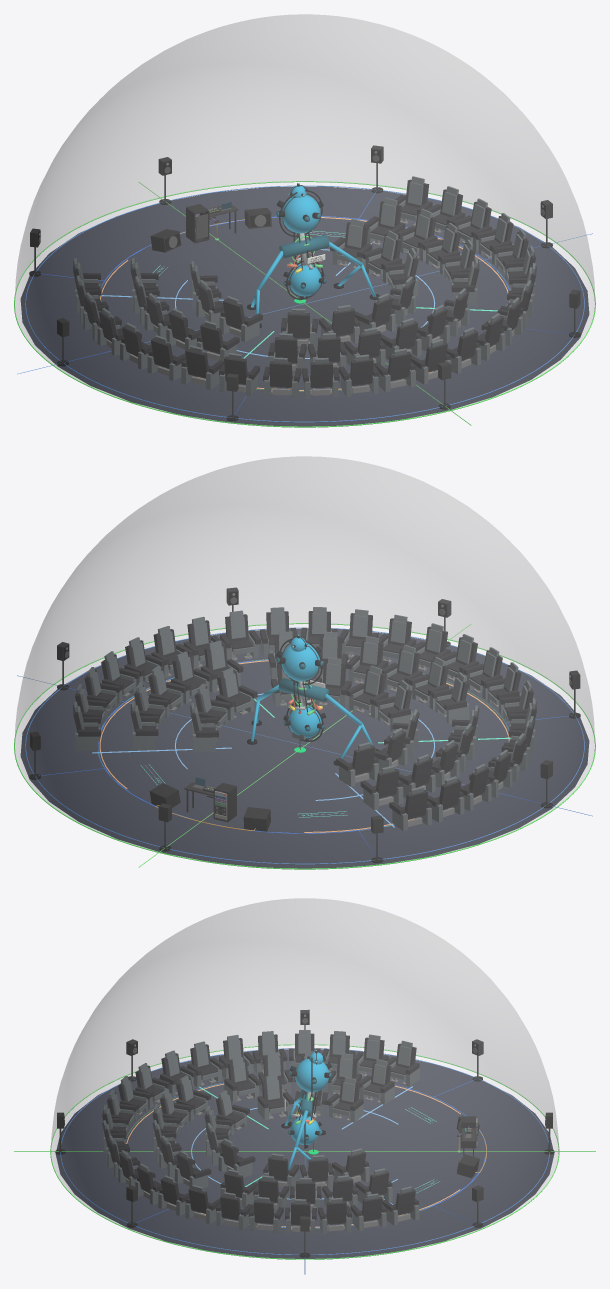
File: planetario_web_export.glb
The picture shows the model from 3 angles, top to bottom: view 1: azimuth 30°, elevation 25°; view 2: azimuth 150°, elevation 25°; view 3: azimuth 270°, elevation 25°; orthographic projection. The views are drawn at different scales.
Visible parts, largest first — view 1: Cúpula Planetário - Raio 10m, Circle, Anel de Referência - Limite Cúpula 10m, Anel de Referência - Satélites, Globo superior de projeção, Globo inferior de projeção, Tambor central horizontal, Cadeira - Encosto inclinado.024, Cadeira - Encosto inclinado.025, Cadeira - Encosto inclinado.023, Cadeira - Encosto inclinado.030, Cadeira - Encosto inclinado.031; view 2: Cúpula Planetário - Raio 10m, Circle, Anel de Referência - Limite Cúpula 10m, Anel de Referência - Satélites, Globo superior de projeção, Globo inferior de projeção, Tambor central horizontal, Subwoofer 01 - Corpo, Subwoofer 02 - Corpo; view 3: Cúpula Planetário - Raio 10m, Circle, Anel de Referência - Limite Cúpula 10m, Anel de Referência - Satélites, Globo superior de projeção, Globo inferior de projeção.
Part boxes in pixels (x1=…): Cúpula Planetário - Raio 10m: x1=15, y1=14, x2=595, y2=426; Circle: x1=20, y1=186, x2=589, y2=426; Anel de Referência - Limite Cúpula 10m: x1=14, y1=181, x2=595, y2=427; Anel de Referência - Satélites: x1=25, y1=185, x2=584, y2=422; Globo superior de projeção: x1=281, y1=194, x2=320, y2=233; Globo inferior de projeção: x1=288, y1=263, x2=321, y2=296; Tambor central horizontal: x1=278, y1=235, x2=329, y2=258; Cadeira - Encosto inclinado.024: x1=310, y1=361, x2=332, y2=386; Cadeira - Encosto inclinado.025: x1=269, y1=361, x2=292, y2=386; Cadeira - Encosto inclinado.023: x1=350, y1=358, x2=373, y2=384; Cadeira - Encosto inclinado.030: x1=331, y1=308, x2=355, y2=335; Cadeira - Encosto inclinado.031: x1=287, y1=312, x2=309, y2=337; Cúpula Planetário - Raio 10m: x1=14, y1=456, x2=594, y2=868; Circle: x1=20, y1=628, x2=589, y2=868; Anel de Referência - Limite Cúpula 10m: x1=14, y1=623, x2=595, y2=869; Anel de Referência - Satélites: x1=25, y1=627, x2=584, y2=864; Globo superior de projeção: x1=281, y1=642, x2=320, y2=681; Globo inferior de projeção: x1=288, y1=705, x2=321, y2=738; Tambor central horizontal: x1=278, y1=678, x2=329, y2=701; Subwoofer 01 - Corpo: x1=243, y1=807, x2=270, y2=831; Subwoofer 02 - Corpo: x1=149, y1=783, x2=180, y2=807; Cúpula Planetário - Raio 10m: x1=51, y1=898, x2=558, y2=1258; Circle: x1=55, y1=1049, x2=554, y2=1258; Anel de Referência - Limite Cúpula 10m: x1=50, y1=1044, x2=559, y2=1259; Anel de Referência - Satélites: x1=60, y1=1048, x2=549, y2=1255; Globo superior de projeção: x1=295, y1=1058, x2=328, y2=1092; Globo inferior de projeção: x1=290, y1=1116, x2=319, y2=1144.
Size of the model in its own units: 22.9 by 10.07 by 22.9.
